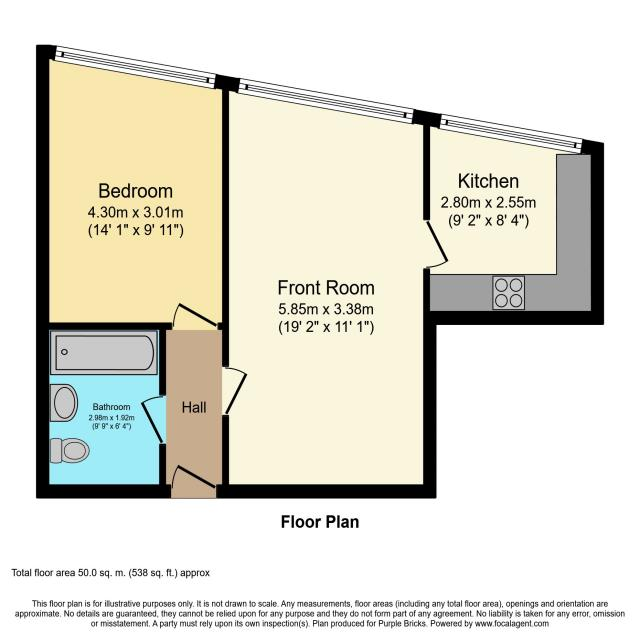DOOR: (169, 297, 226, 333), (166, 461, 219, 499), (423, 214, 452, 273), (136, 392, 168, 445), (221, 362, 252, 416)
ROOM: (221, 77, 455, 499), (422, 111, 604, 325)
WINDOW: (235, 75, 419, 128), (53, 43, 219, 93), (436, 109, 587, 157)
